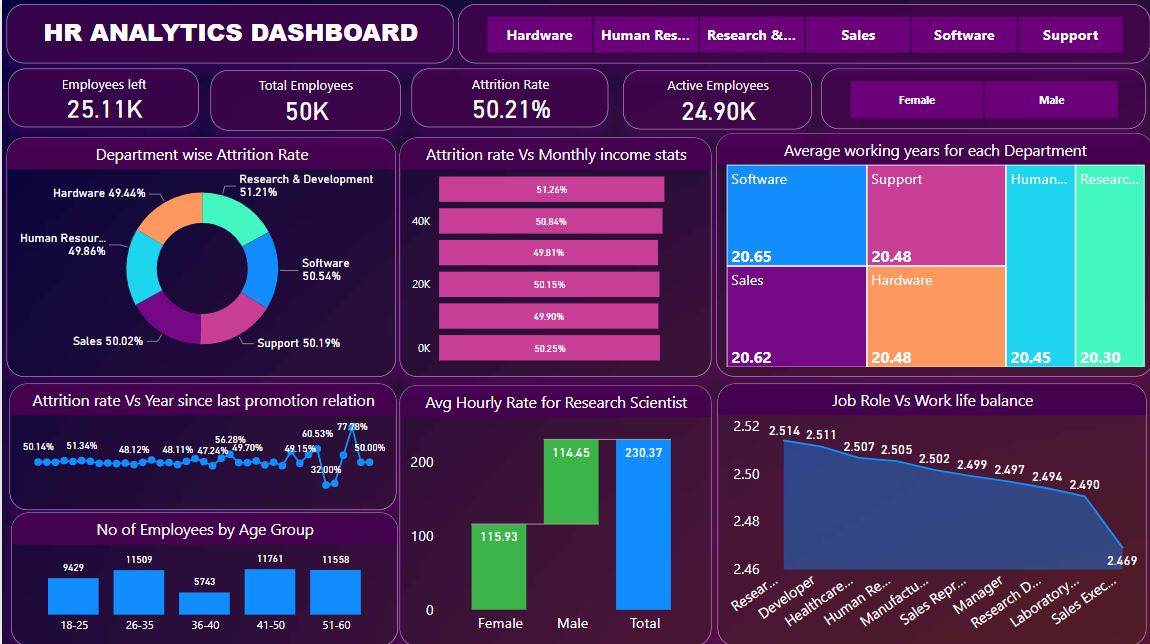

Layout of this report page (visuals, bound fields, positions):
{"tool":"powerbi","page":{"name":"HR Analysis Dashboard","canvas":[1280,720],"ordinal":0},"visuals":[{"type":"donutChart","title":"Department wise Attrition Rate","fields":{"Category":["HR_1.Department"],"Y":["Table.Attrition Rate"]},"box":[4.7,154.7,432.9,265.7],"z":0},{"type":"waterfallChart","title":"Avg Hourly Rate for Research Scientist ","fields":{"Category":["HR_1.Gender"],"Y":["Avg(HR_1.HourlyRate)"]},"box":[442.3,429.8,347,290.7],"z":1000},{"type":"treemap","title":"Average working years for each Department","fields":{"Group":["HR_1.Department"],"Values":["Avg(HR_2.TotalWorkingYears)"]},"box":[794,150,486.1,270.4],"z":2000},{"type":"areaChart","title":" Job Role Vs Work life balance","fields":{"Category":["HR_1.JobRole"],"Y":["Avg(HR_2.WorkLifeBalance)"]},"box":[795,428.3,476.7,291.7],"z":3000},{"type":"lineChart","title":"Attrition rate Vs Year since last promotion relation","fields":{"Y":["Table.Attrition Rate"],"Category":["HR_2.YearsSinceLastPromotion"]},"box":[7.8,428.3,429.8,140.7],"z":4000},{"type":"textbox","box":[4.8,6,496.9,66.3],"z":5000},{"type":"card","title":"Total Employees","fields":{"Values":["CountNonNull(HR_2.MonthlyIncome (bins))"]},"box":[231.3,79.7,211,67.2],"z":6000},{"type":"card","title":"Employees left","fields":{"Values":["CountNonNull(HR_1.Attrition)"]},"box":[7.2,78.4,212.3,65.1],"z":7000},{"type":"card","title":"Active Employees","fields":{"Values":["CountNonNull(HR_1.Attrition)"]},"box":[689.8,79.6,209.8,66.3],"z":8000},{"type":"card","title":"Attrition Rate","fields":{"Values":["Table.Attrition Rate"]},"box":[454.8,78.1,218.8,65.6],"z":9000},{"type":"barChart","title":"Attrition rate Vs Monthly income stats","fields":{"Y":["Table.Attrition Rate"],"Category":["HR_2.MonthlyIncome (bins)"]},"box":[442.3,154.7,347,265.7],"z":10000},{"type":"slicer","fields":{"Values":["HR_1.Gender"]},"box":[910.6,78.4,360.6,67.5],"z":11000},{"type":"slicer","fields":{"Values":["HR_1.Department"]},"box":[506.5,6,769.4,66.3],"z":12000},{"type":"clusteredColumnChart","title":"No of Employees by Age Group","fields":{"Y":["CountNonNull(Sheet1.Age)"],"Category":["Sheet1.Custom"]},"box":[9.4,572.1,429.8,148.5],"z":13000}]}

Visuals, with their boxes in screenshot pixels (x1, y1, x2, y2), scaled from the page's 1280x720 canvas onto the 1150x644 screenshot:
"Department wise Attrition Rate" donutChart: bbox(4, 138, 393, 376)
"Avg Hourly Rate for Research Scientist " waterfallChart: bbox(397, 384, 709, 643)
"Average working years for each Department" treemap: bbox(713, 134, 1149, 376)
" Job Role Vs Work life balance" areaChart: bbox(714, 383, 1143, 643)
"Attrition rate Vs Year since last promotion relation" lineChart: bbox(7, 383, 393, 509)
textbox: bbox(4, 5, 451, 65)
"Total Employees" card: bbox(208, 71, 397, 131)
"Employees left" card: bbox(6, 70, 197, 128)
"Active Employees" card: bbox(620, 71, 808, 130)
"Attrition Rate" card: bbox(409, 70, 605, 129)
"Attrition rate Vs Monthly income stats" barChart: bbox(397, 138, 709, 376)
slicer - HR_1.Gender: bbox(818, 70, 1142, 130)
slicer - HR_1.Department: bbox(455, 5, 1146, 65)
"No of Employees by Age Group" clusteredColumnChart: bbox(8, 512, 395, 643)
